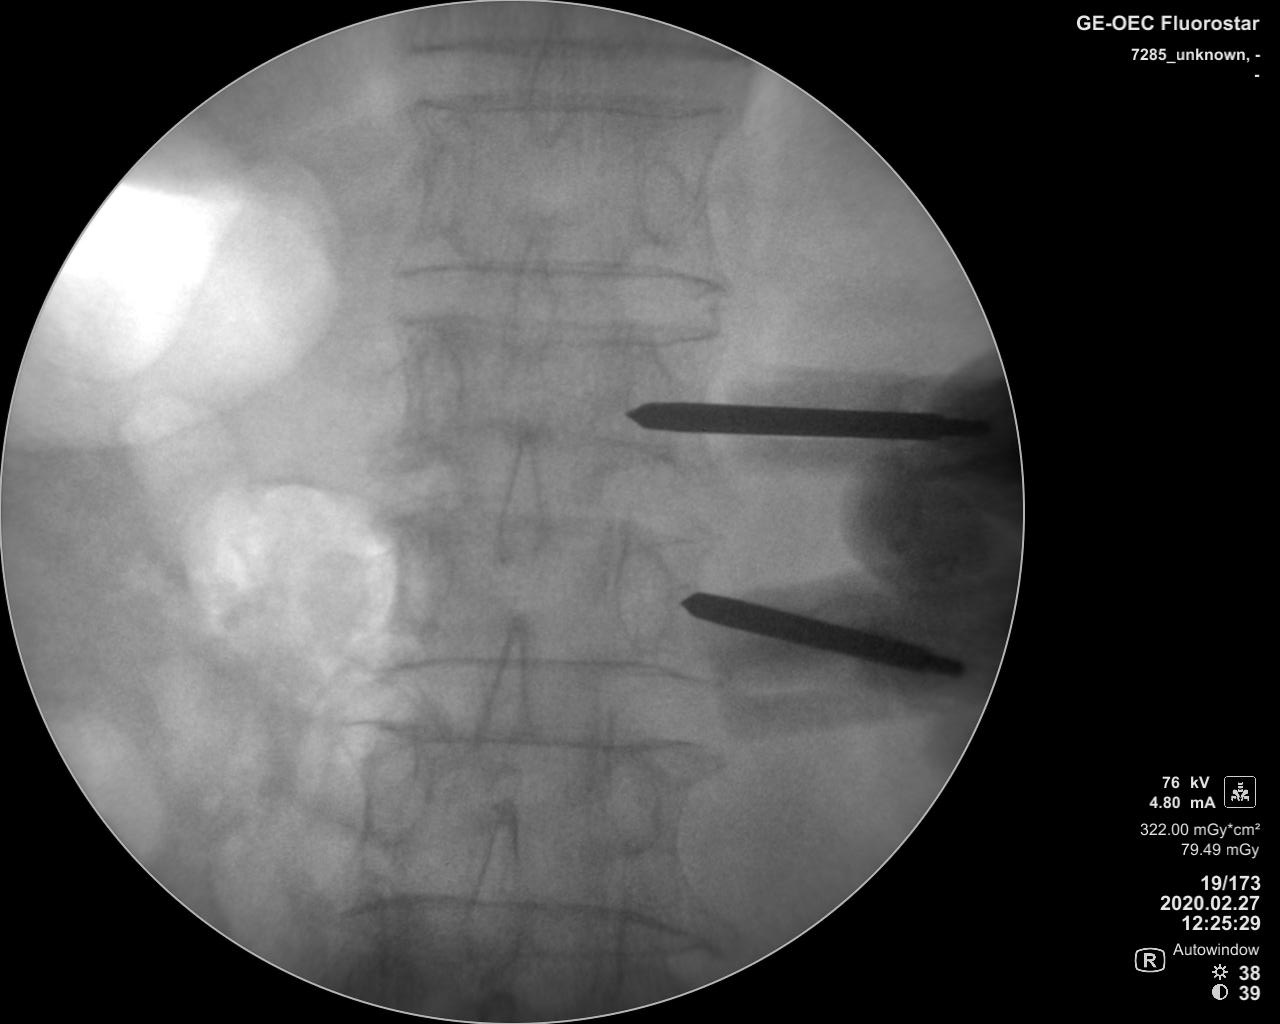eyes: (613, 534, 674, 656), (594, 754, 662, 861), (621, 354, 685, 455), (389, 531, 453, 631), (367, 743, 426, 850), (399, 335, 464, 430), (633, 156, 694, 252), (413, 143, 467, 233)
line: (338, 892, 718, 942), (351, 717, 720, 758), (388, 311, 734, 352), (380, 258, 731, 295), (364, 653, 722, 685), (401, 92, 736, 120), (399, 37, 737, 61)
nose: (472, 618, 536, 781), (465, 807, 521, 977), (506, 228, 557, 373), (494, 429, 548, 568), (523, 8, 571, 152)
